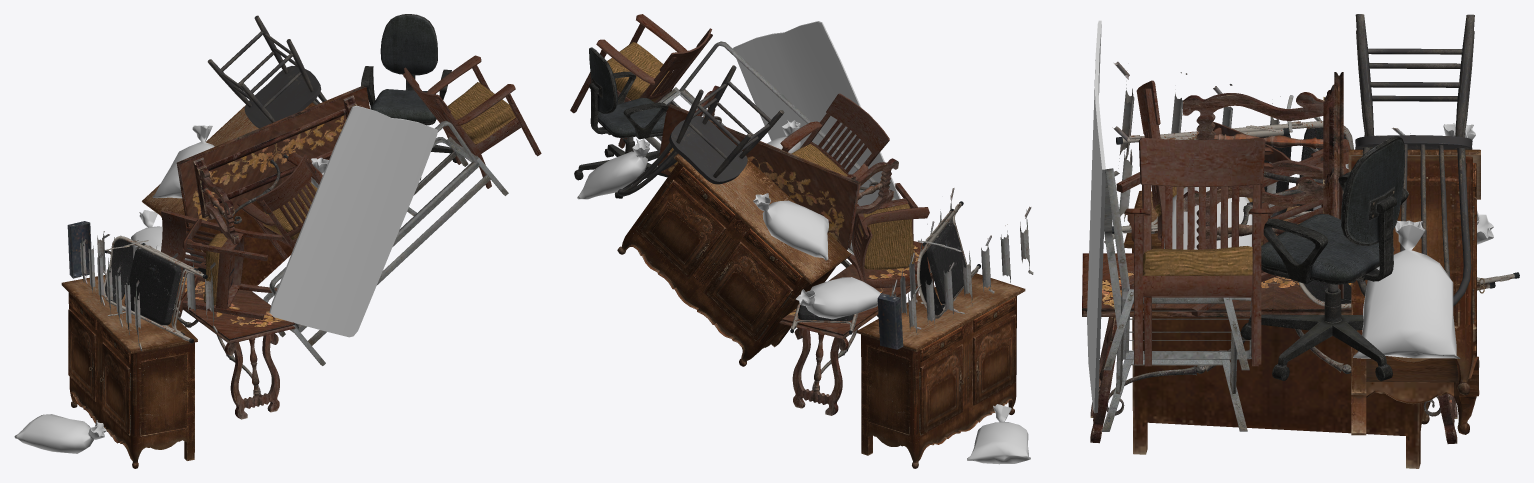
3 renders of one model, left to right at view 1: azimuth 30°, elevation 25°; view 2: azimuth 150°, elevation 25°; view 3: azimuth 270°, elevation 25°, orthographic. The views are drawn at different scales.
Parts seen in each view (by area): view 1: LOD_1_Group_0_Sub_9__sm26_022_WoodBoard01A_A_Mat, LOD_1_Group_0_Sub_1__sm30_109_Lowchest01A_A_Mat, LOD_1_Group_0_Sub_6__sm30_205_LibraryDesk01A_A_Mat, LOD_1_Group_0_Sub_5__sm30_118_WoodChair03A_A_Mat, LOD_1_Group_0_Sub_7__sm30_057_OfficeChair_A_Mat, LOD_1_Group_0_Sub_3__sm30_153_FoldingChair01A_A_Mat, LOD_1_Group_0_Sub_8__sm30_115_cafeChair01A_A_Mat, LOD_1_Group_0_Sub_4__sm26_046_Sandbag04A_A_Mat__Env_default, LOD_1_Group_0_Sub_10__sm30_002_OfficeSofa01A_A_Mat1, LOD_1_Group_0_Sub_2__sm30_163_Foldingladder03A_A_Mat; view 2: LOD_1_Group_0_Sub_1__sm30_109_Lowchest01A_A_Mat, LOD_1_Group_0_Sub_5__sm30_118_WoodChair03A_A_Mat, LOD_1_Group_0_Sub_6__sm30_205_LibraryDesk01A_A_Mat, LOD_1_Group_0_Sub_4__sm26_046_Sandbag04A_A_Mat__Env_default, LOD_1_Group_0_Sub_9__sm26_022_WoodBoard01A_A_Mat, LOD_1_Group_0_Sub_8__sm30_115_cafeChair01A_A_Mat, LOD_1_Group_0_Sub_7__sm30_057_OfficeChair_A_Mat, LOD_1_Group_0_Sub_2__sm30_163_Foldingladder03A_A_Mat, LOD_1_Group_0_Sub_3__sm30_153_FoldingChair01A_A_Mat, LOD_1_Group_0_Sub_10__sm30_002_OfficeSofa01A_A_Mat1; view 3: LOD_1_Group_0_Sub_1__sm30_109_Lowchest01A_A_Mat, LOD_1_Group_0_Sub_5__sm30_118_WoodChair03A_A_Mat, LOD_1_Group_0_Sub_6__sm30_205_LibraryDesk01A_A_Mat, LOD_1_Group_0_Sub_7__sm30_057_OfficeChair_A_Mat, LOD_1_Group_0_Sub_4__sm26_046_Sandbag04A_A_Mat__Env_default, LOD_1_Group_0_Sub_8__sm30_115_cafeChair01A_A_Mat, LOD_1_Group_0_Sub_10__sm30_002_OfficeSofa01A_A_Mat1, LOD_1_Group_0_Sub_9__sm26_022_WoodBoard01A_A_Mat, LOD_1_Group_0_Sub_3__sm30_153_FoldingChair01A_A_Mat, LOD_1_Group_0_Sub_2__sm30_163_Foldingladder03A_A_Mat.
Boxes of the visible parts, bbox=[...] form: LOD_1_Group_0_Sub_9__sm26_022_WoodBoard01A_A_Mat: bbox=[269, 105, 437, 337]; LOD_1_Group_0_Sub_1__sm30_109_Lowchest01A_A_Mat: bbox=[61, 102, 315, 468]; LOD_1_Group_0_Sub_6__sm30_205_LibraryDesk01A_A_Mat: bbox=[173, 85, 369, 419]; LOD_1_Group_0_Sub_5__sm30_118_WoodChair03A_A_Mat: bbox=[161, 55, 541, 319]; LOD_1_Group_0_Sub_7__sm30_057_OfficeChair_A_Mat: bbox=[361, 14, 456, 180]; LOD_1_Group_0_Sub_3__sm30_153_FoldingChair01A_A_Mat: bbox=[103, 236, 207, 343]; LOD_1_Group_0_Sub_8__sm30_115_cafeChair01A_A_Mat: bbox=[207, 15, 326, 128]; LOD_1_Group_0_Sub_4__sm26_046_Sandbag04A_A_Mat__Env_default: bbox=[14, 106, 370, 453]; LOD_1_Group_0_Sub_10__sm30_002_OfficeSofa01A_A_Mat1: bbox=[263, 121, 508, 365]; LOD_1_Group_0_Sub_2__sm30_163_Foldingladder03A_A_Mat: bbox=[67, 221, 217, 351]; LOD_1_Group_0_Sub_1__sm30_109_Lowchest01A_A_Mat: bbox=[617, 153, 1025, 468]; LOD_1_Group_0_Sub_5__sm30_118_WoodChair03A_A_Mat: bbox=[570, 14, 929, 288]; LOD_1_Group_0_Sub_6__sm30_205_LibraryDesk01A_A_Mat: bbox=[657, 85, 934, 415]; LOD_1_Group_0_Sub_4__sm26_046_Sandbag04A_A_Mat__Env_default: bbox=[577, 119, 1030, 464]; LOD_1_Group_0_Sub_9__sm26_022_WoodBoard01A_A_Mat: bbox=[733, 21, 900, 241]; LOD_1_Group_0_Sub_8__sm30_115_cafeChair01A_A_Mat: bbox=[617, 65, 784, 196]; LOD_1_Group_0_Sub_7__sm30_057_OfficeChair_A_Mat: bbox=[574, 47, 668, 198]; LOD_1_Group_0_Sub_2__sm30_163_Foldingladder03A_A_Mat: bbox=[877, 188, 1033, 349]; LOD_1_Group_0_Sub_3__sm30_153_FoldingChair01A_A_Mat: bbox=[790, 201, 980, 334]; LOD_1_Group_0_Sub_10__sm30_002_OfficeSofa01A_A_Mat1: bbox=[618, 41, 896, 267]; LOD_1_Group_0_Sub_1__sm30_109_Lowchest01A_A_Mat: bbox=[1124, 149, 1484, 468]; LOD_1_Group_0_Sub_5__sm30_118_WoodChair03A_A_Mat: bbox=[1116, 80, 1350, 366]; LOD_1_Group_0_Sub_6__sm30_205_LibraryDesk01A_A_Mat: bbox=[1082, 72, 1457, 443]; LOD_1_Group_0_Sub_7__sm30_057_OfficeChair_A_Mat: bbox=[1240, 135, 1408, 381]; LOD_1_Group_0_Sub_4__sm26_046_Sandbag04A_A_Mat__Env_default: bbox=[1164, 123, 1493, 358]; LOD_1_Group_0_Sub_8__sm30_115_cafeChair01A_A_Mat: bbox=[1355, 14, 1474, 306]; LOD_1_Group_0_Sub_10__sm30_002_OfficeSofa01A_A_Mat1: bbox=[1101, 168, 1251, 431]; LOD_1_Group_0_Sub_9__sm26_022_WoodBoard01A_A_Mat: bbox=[1087, 20, 1105, 413]; LOD_1_Group_0_Sub_3__sm30_153_FoldingChair01A_A_Mat: bbox=[1112, 121, 1519, 308]; LOD_1_Group_0_Sub_2__sm30_163_Foldingladder03A_A_Mat: bbox=[1104, 61, 1410, 243].
Bounding box in the file's own units: 3.59 × 2.44 × 1.69.
